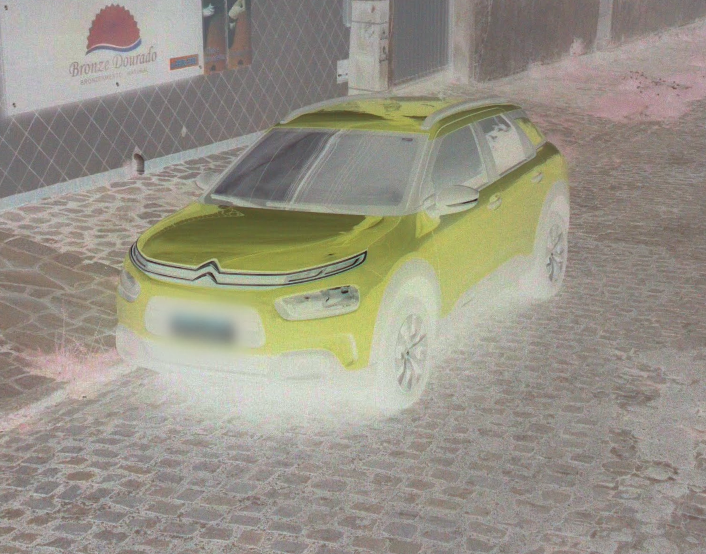car: (112, 89, 570, 411)
